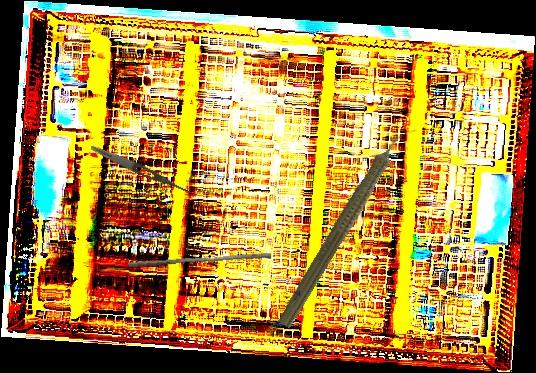Dressing Forceps: (88, 142, 200, 200)
Handpiece: (273, 117, 420, 334)
Pusher: (127, 247, 272, 274)
